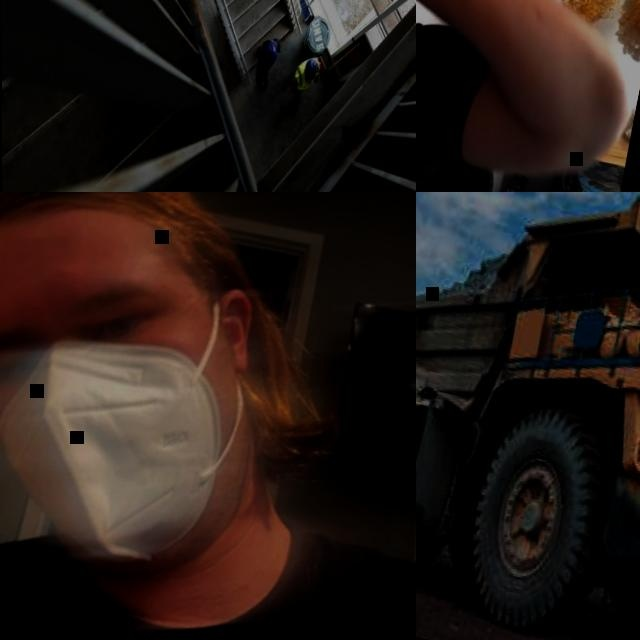Hardhat: (262, 41, 278, 64), (303, 59, 318, 81)
Mask: (0, 314, 257, 591)
NO-Hardhat: (0, 192, 227, 309)
NO-Safety Vest: (0, 460, 416, 640)
Person: (0, 192, 416, 640), (416, 0, 640, 192), (286, 54, 322, 113), (251, 36, 283, 93)
Safety Vest: (291, 54, 321, 94)
machinery: (416, 192, 640, 640)
